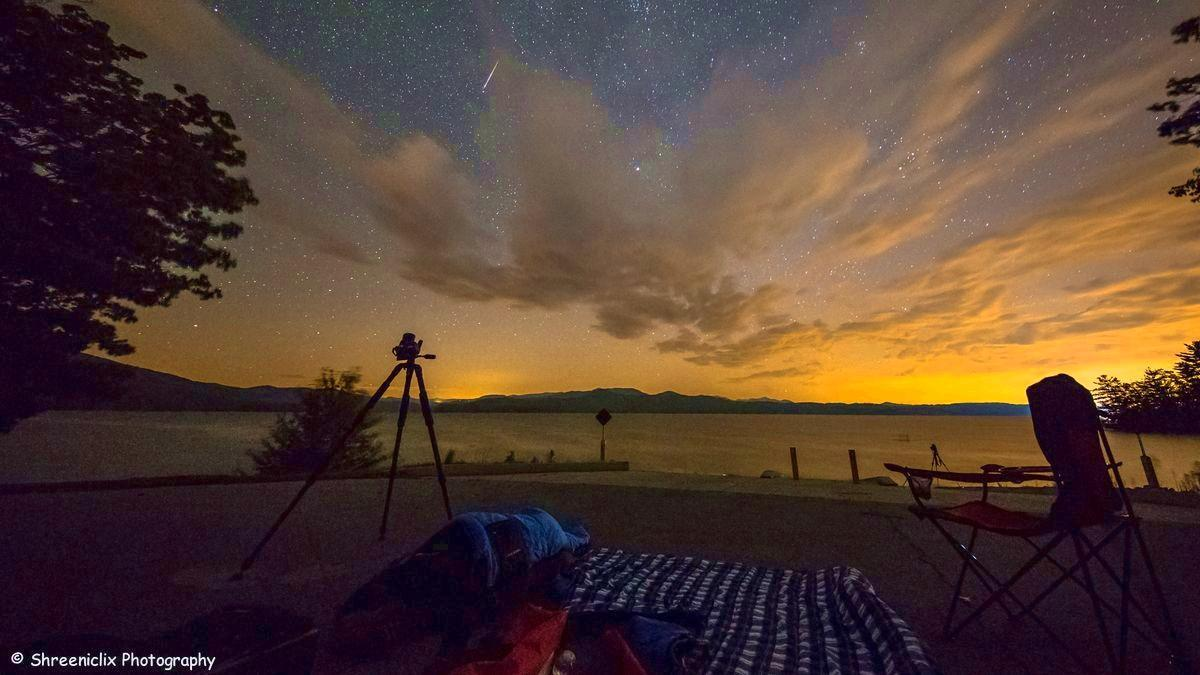meteorite: (473, 63, 504, 96)
